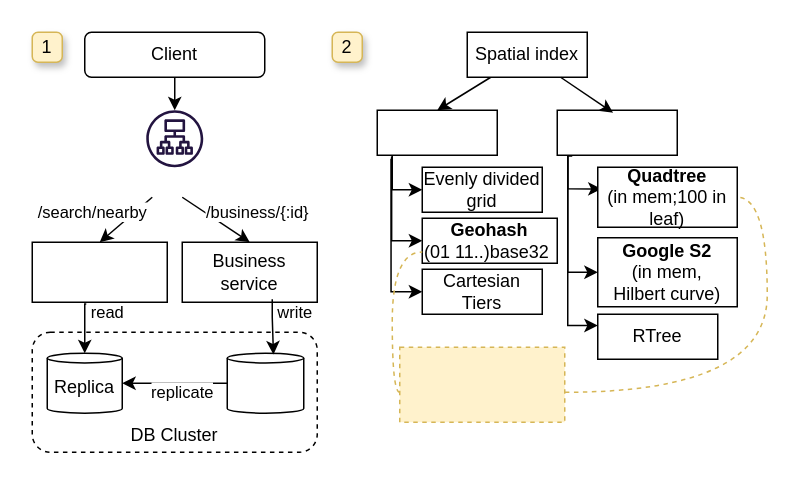
The diagram is 794 pixels wide and 485 high, and some of its shapes have lost their labels. Here are the shapes that lost their labels. From the top down, the centre of each, then its label:
the point at 174,138: Load Balancer
the point at 436,132: Hash
the point at 616,132: Tree
the point at 99,271: Location-based service
the point at 265,382: Primary
the point at 481,384: Do not shard, should fit 1 server. Add read replicas.
